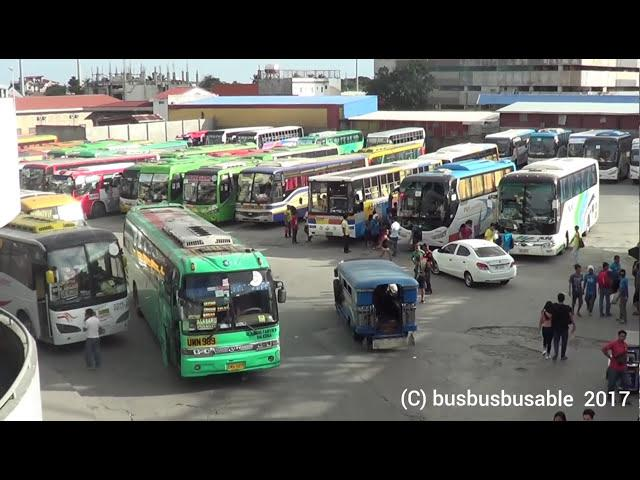bus: (122, 202, 287, 375), (2, 201, 128, 348), (393, 157, 520, 244), (307, 160, 429, 242), (497, 158, 598, 255), (240, 152, 365, 227), (181, 162, 258, 224), (47, 159, 121, 221), (139, 159, 183, 223), (201, 125, 301, 149), (591, 131, 633, 182), (355, 141, 426, 169), (428, 141, 504, 167), (485, 129, 533, 167), (23, 160, 53, 216), (365, 126, 427, 152), (307, 129, 369, 154), (525, 131, 565, 163), (119, 162, 140, 216), (567, 133, 594, 159)
car: (427, 239, 516, 291)
jeepney: (331, 259, 419, 353)
